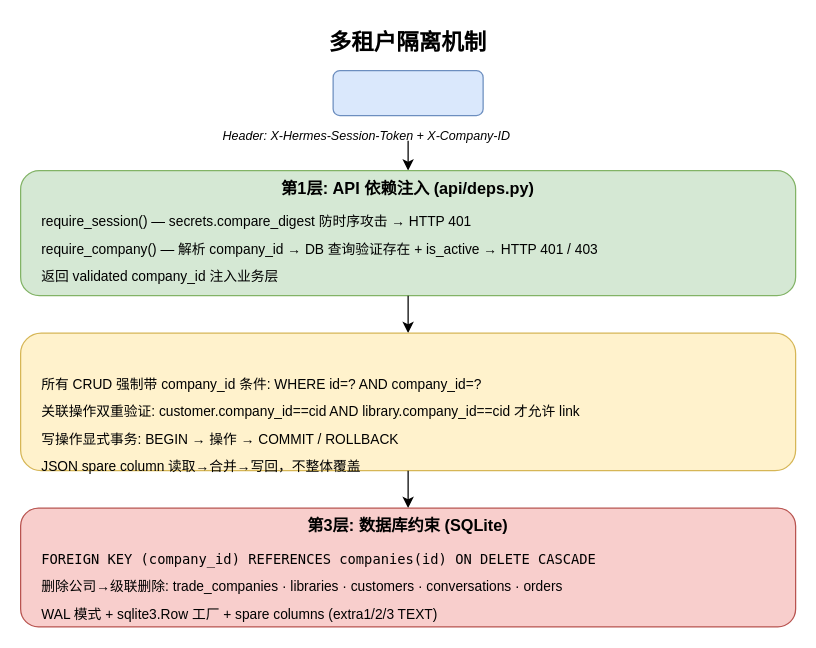
This 816x648 diagram has some shape labels left out. Each missing label, with the box of its shape:
浏览器请求: (332, 69, 483, 116)
第2层: 业务逻辑 (customer.py / library.py / order.py): (19, 332, 796, 471)
